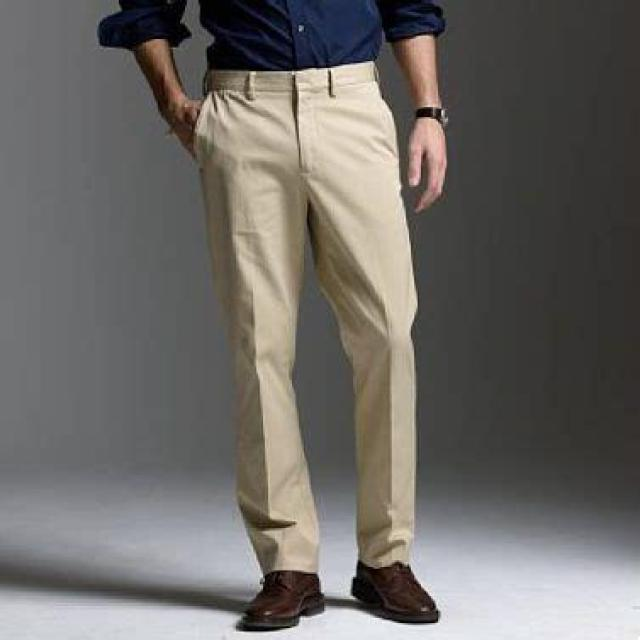pants: (194, 59, 418, 574)
